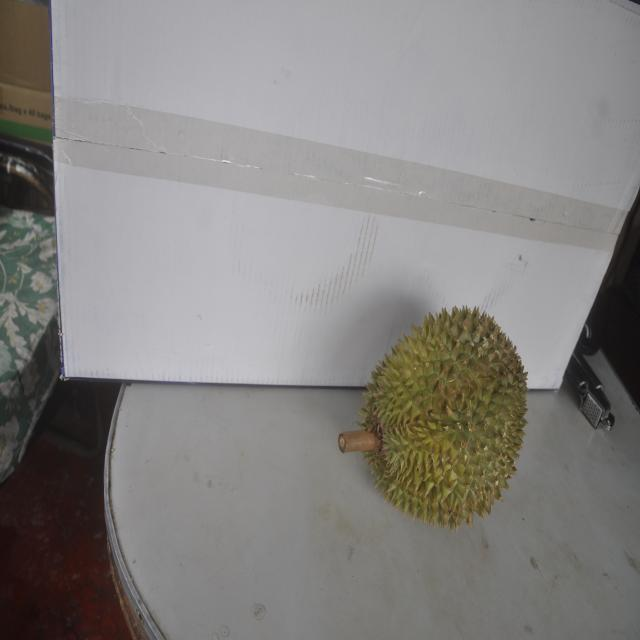mature: (349, 300, 529, 530)
